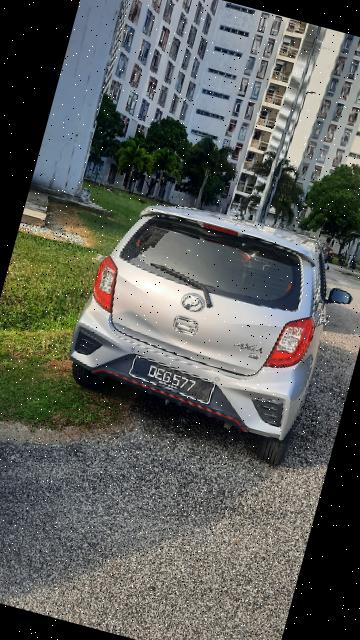License_Plate: (117, 347, 224, 412)
car: (49, 174, 360, 475)
